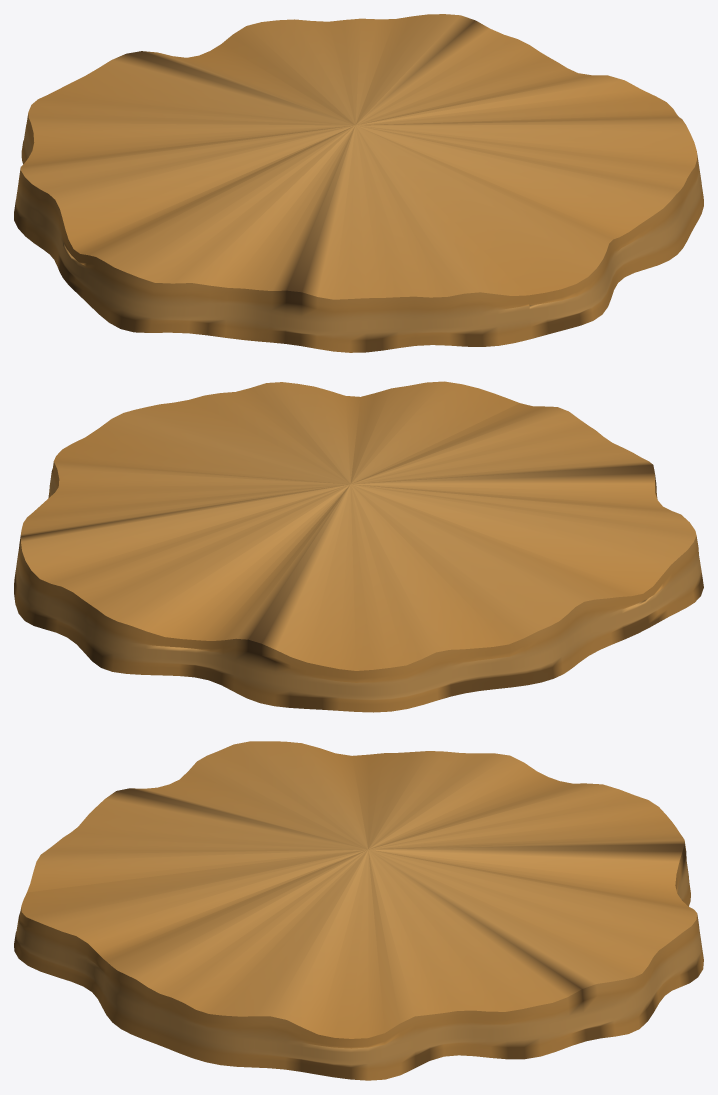
The model's file is amritsari-kulcha-backup.glb.
3 views of the same model, one above another, from view 1: azimuth 30°, elevation 25°; view 2: azimuth 150°, elevation 25°; view 3: azimuth 270°, elevation 25° (orthographic). The views are drawn at different scales.
Parts seen in each view (by area): view 1: AmritsariKulcha; view 2: AmritsariKulcha; view 3: AmritsariKulcha.
Boxes of the visible parts, left/top/right/bottom form: AmritsariKulcha: left=14, top=14, right=703, bottom=352; AmritsariKulcha: left=14, top=381, right=703, bottom=712; AmritsariKulcha: left=14, top=741, right=703, bottom=1080.
Size of the model in its own units: 3.05 by 0.4143 by 3.03.
